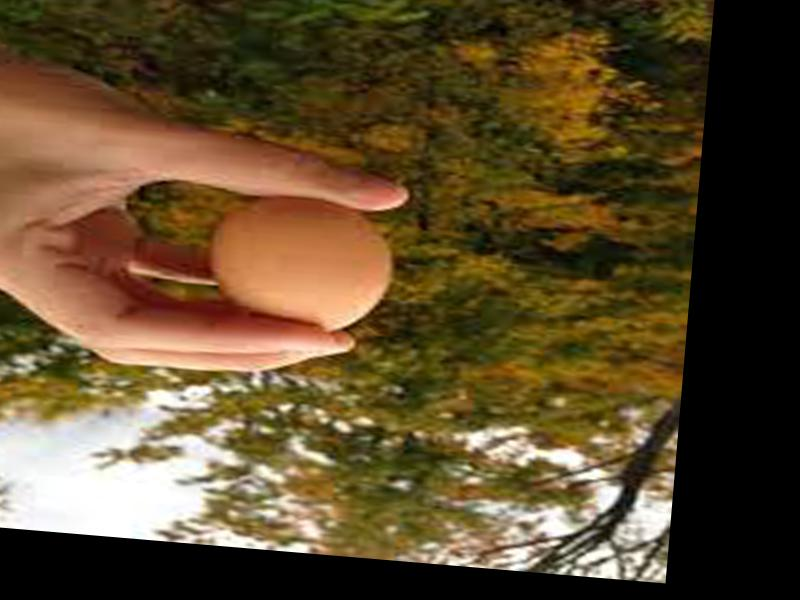Eggs: (207, 189, 395, 338)
